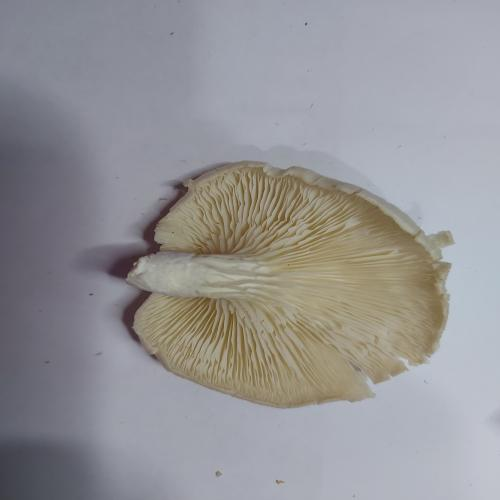Oyster Mushroom: (102, 126, 478, 453), (125, 159, 455, 409)
